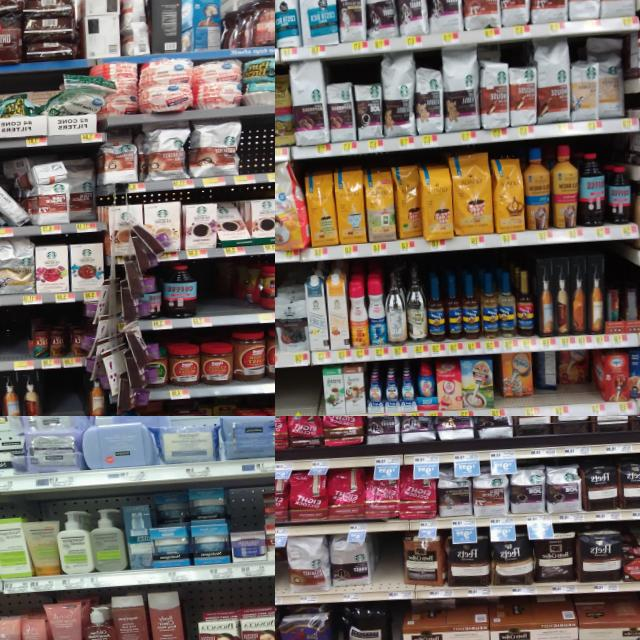100% O.O.S: (279, 366, 324, 416), (374, 532, 405, 599), (275, 546, 288, 604)
100- O.O.S: (240, 120, 275, 184), (194, 260, 224, 326), (0, 310, 29, 371), (38, 369, 63, 416), (61, 370, 86, 416)
